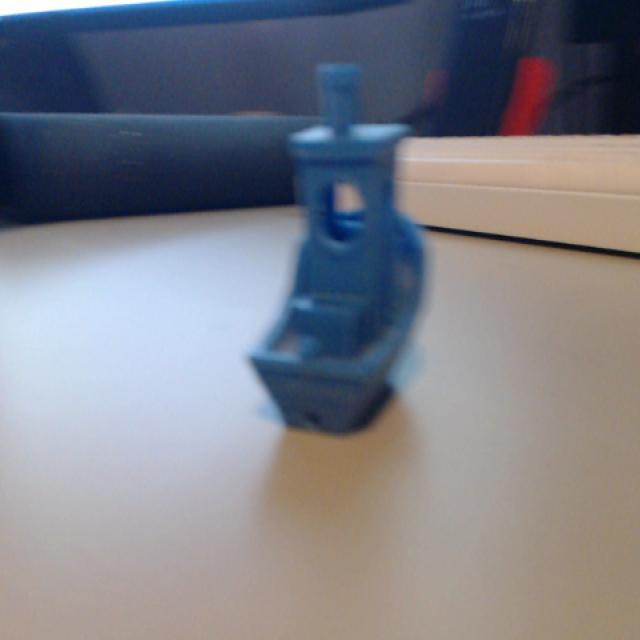benchy: (244, 58, 431, 438)
